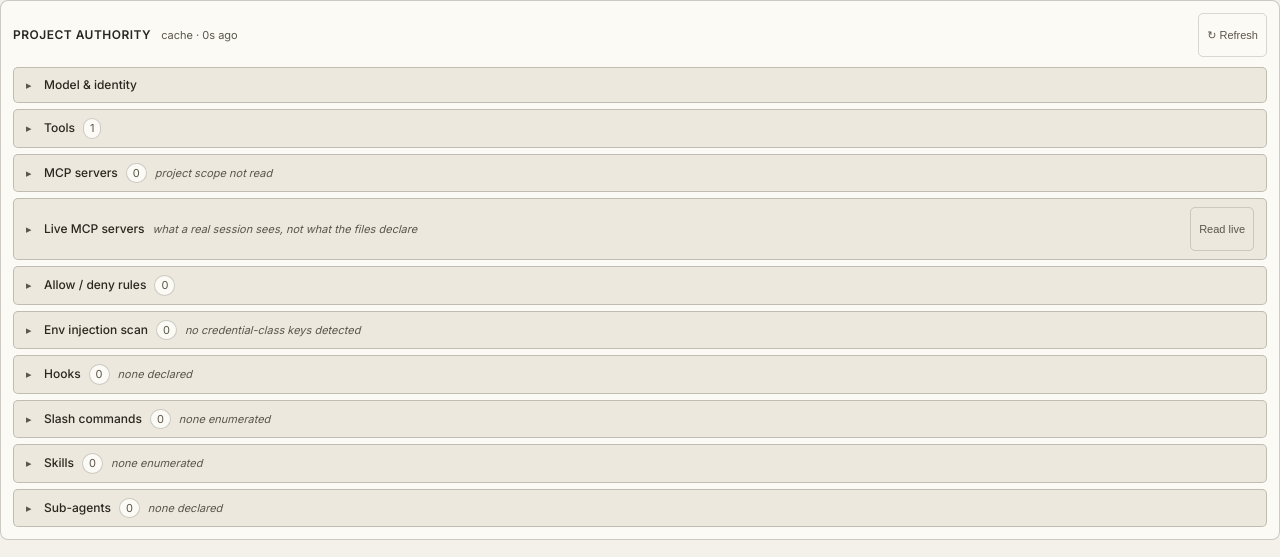
Test: AuthorityPanel — wantLive (Cebab-ws0.5) › the status line says a refresh is in flight, and keeps the age of what is on screen
The image size is (1280, 557).
Click the button with class "authority-panel-refresh" showing "↻ Refresh".
click(1233, 35)  # box x1=1198 y1=13 x2=1267 y2=57
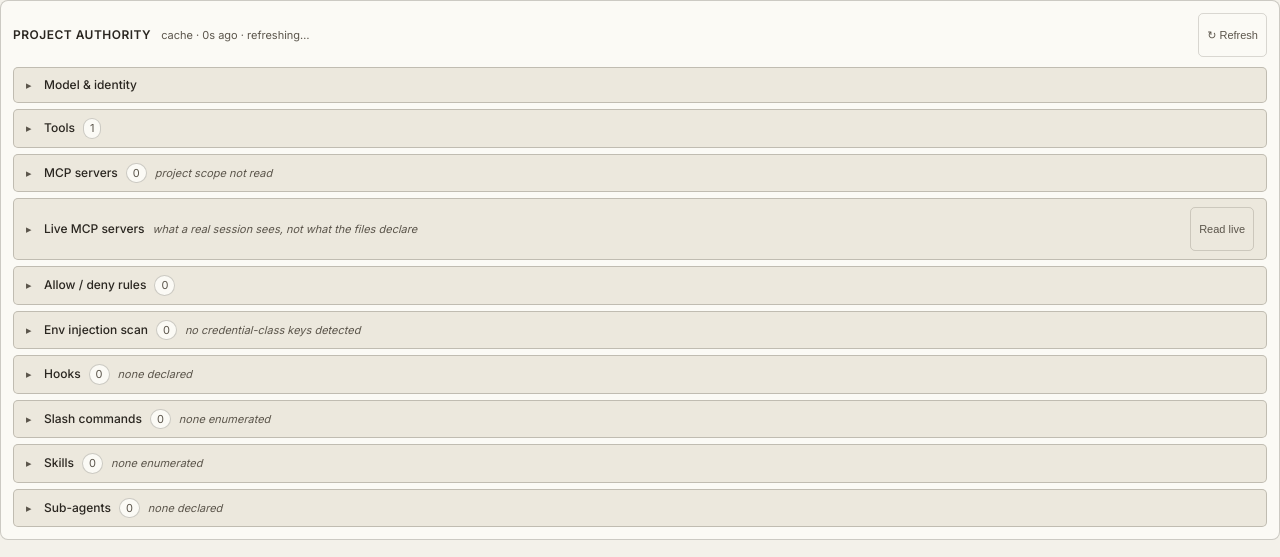
Expected: the text with class "authority-panel-status" shows "cache", x1=161 y1=28 x2=310 y2=42
Now the text with class "authority-panel-status" shows "refreshing", box x1=161 y1=28 x2=310 y2=42
